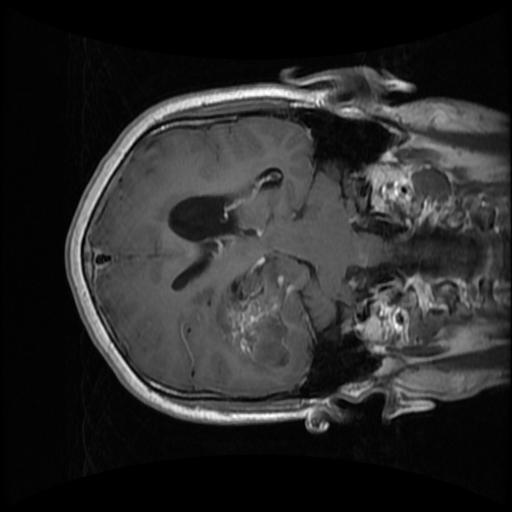glioma: (216, 256, 302, 369)
